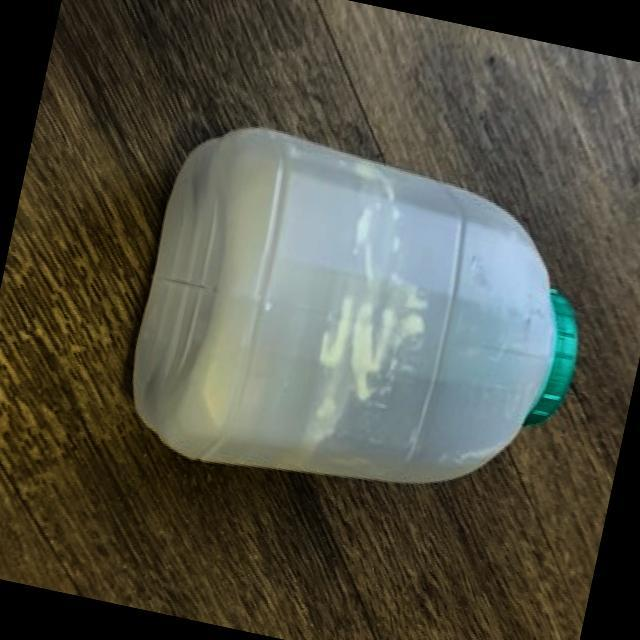HDPE Plastic: (127, 124, 583, 486)
